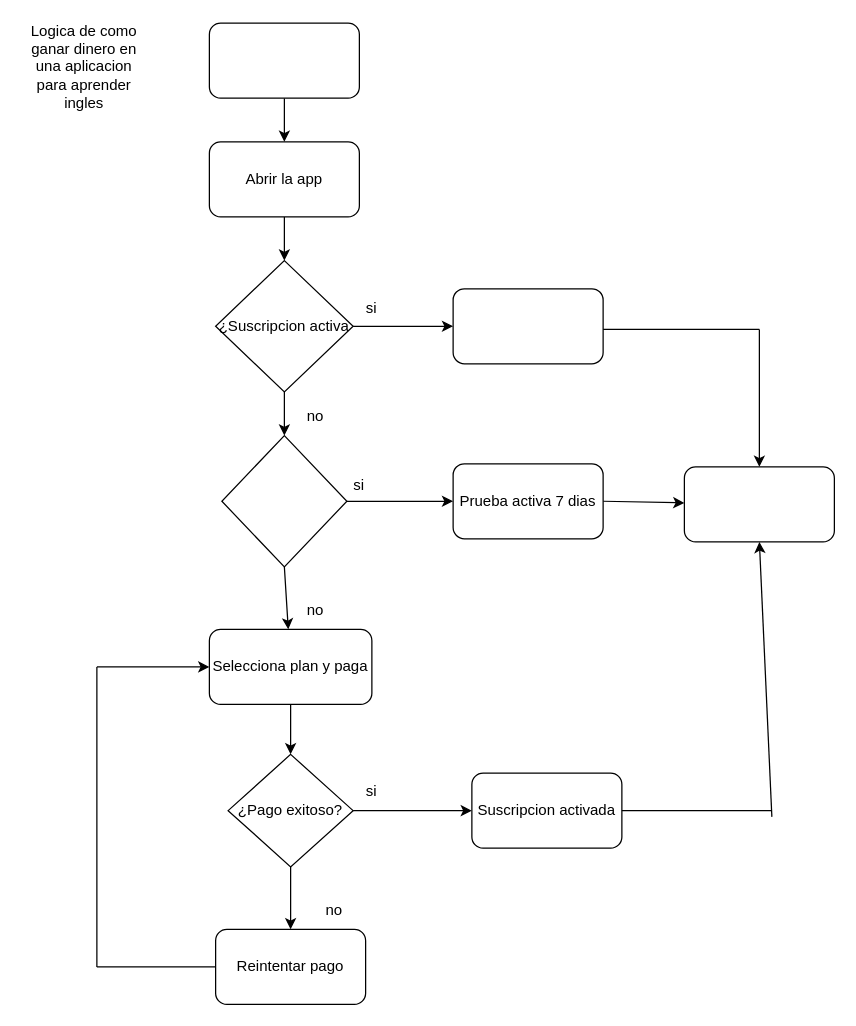
Some shapes in this 856 by 1026 pixel diagram are drawn without their labels. The shapes that lost their labels are listed below. From the top down, each one's centre as x and y in pixels, then its label:
At (x=283, y=60): "Inicio".
At (x=527, y=326): "Acceso completo".
At (x=284, y=500): "¿Prueba gratis disponible?".
At (x=758, y=504): "Fin".
